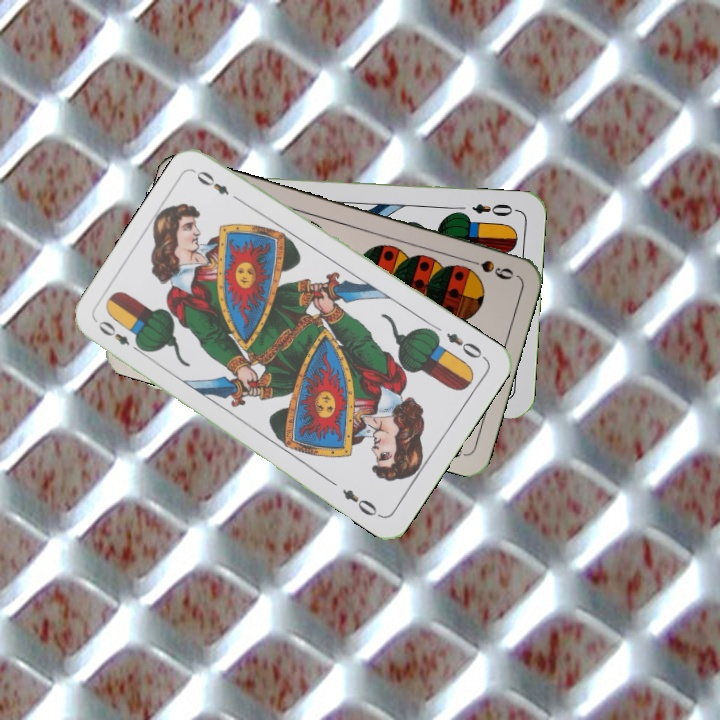EO: (94, 316, 146, 356), (442, 328, 489, 362), (468, 199, 520, 219)
S9: (460, 254, 517, 283)
